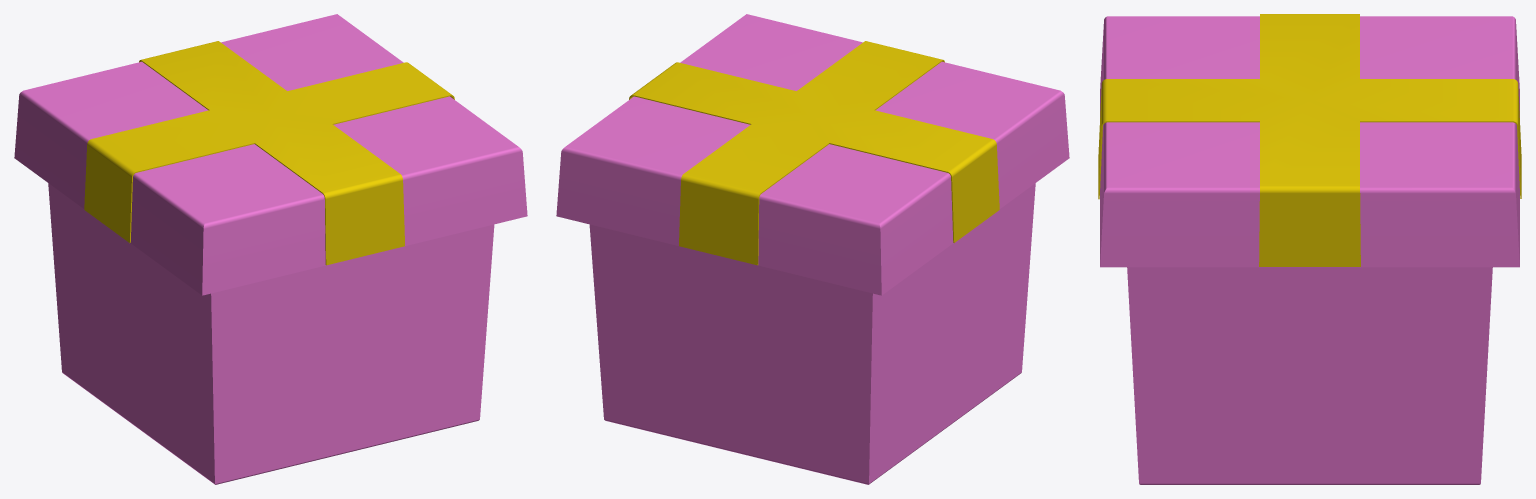
The picture shows the model from 3 angles, left to right: view 1: azimuth 30°, elevation 25°; view 2: azimuth 150°, elevation 25°; view 3: azimuth 270°, elevation 25°; orthographic projection. The views are drawn at different scales.
Parts seen in each view (by area): view 1: pCube2, polySurface6; view 2: pCube2, polySurface6; view 3: pCube2, polySurface6.
Part boxes in pixels (x1=…): pCube2: x1=14, y1=14, x2=527, y2=295; polySurface6: x1=48, y1=183, x2=494, y2=484; pCube2: x1=556, y1=14, x2=1069, y2=295; polySurface6: x1=589, y1=183, x2=1035, y2=484; pCube2: x1=1098, y1=14, x2=1521, y2=267; polySurface6: x1=1127, y1=267, x2=1492, y2=484.
Bounding box in the file's own units: 4.79 × 3.92 × 4.79.
